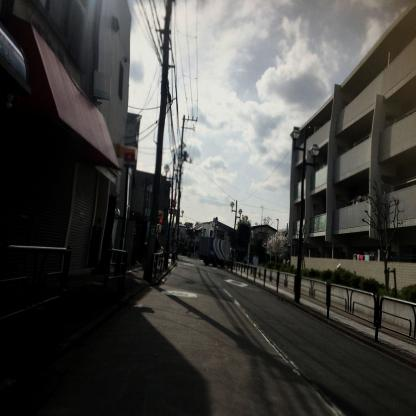Someiyoshino: (260, 225, 289, 258)
